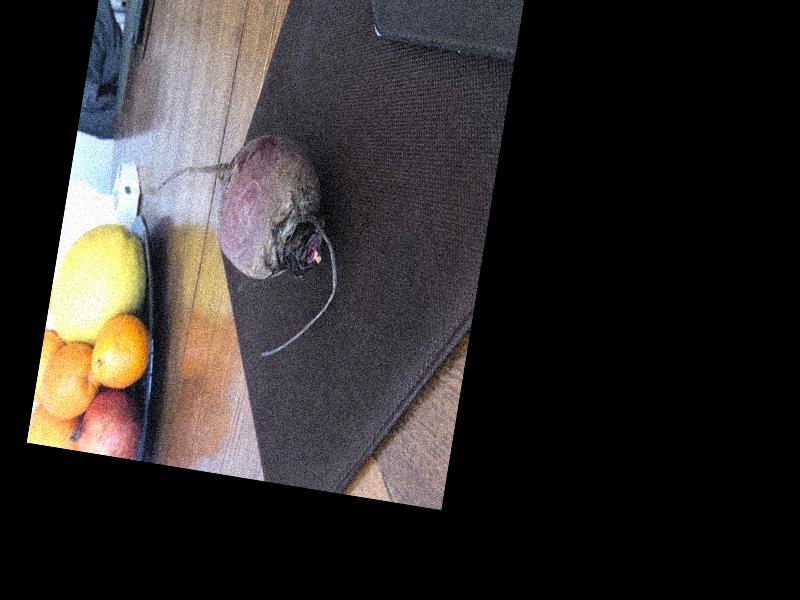Beet: (133, 117, 358, 366)
